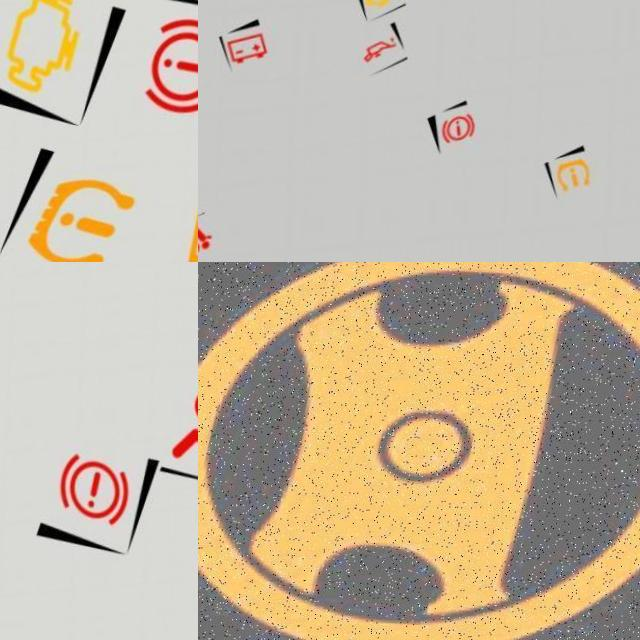Electronic Power Steering: (198, 262, 640, 640)
